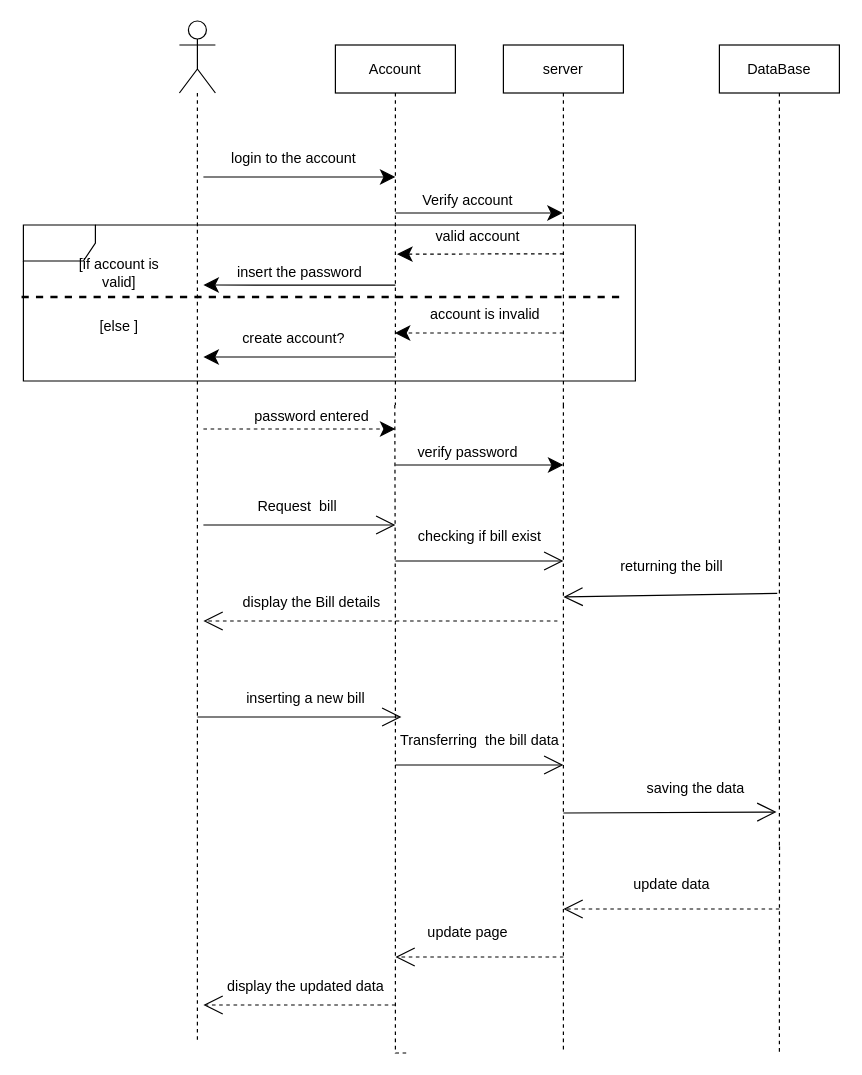
This 862x1075 diagram has some shape labels left out. The shapes that lost their labels are listed below. From the top down, each one's box as (x1, y1, x2, y2) in pixels, then its label:
(178, 20, 215, 93): user
(22, 224, 635, 381): Alternative
